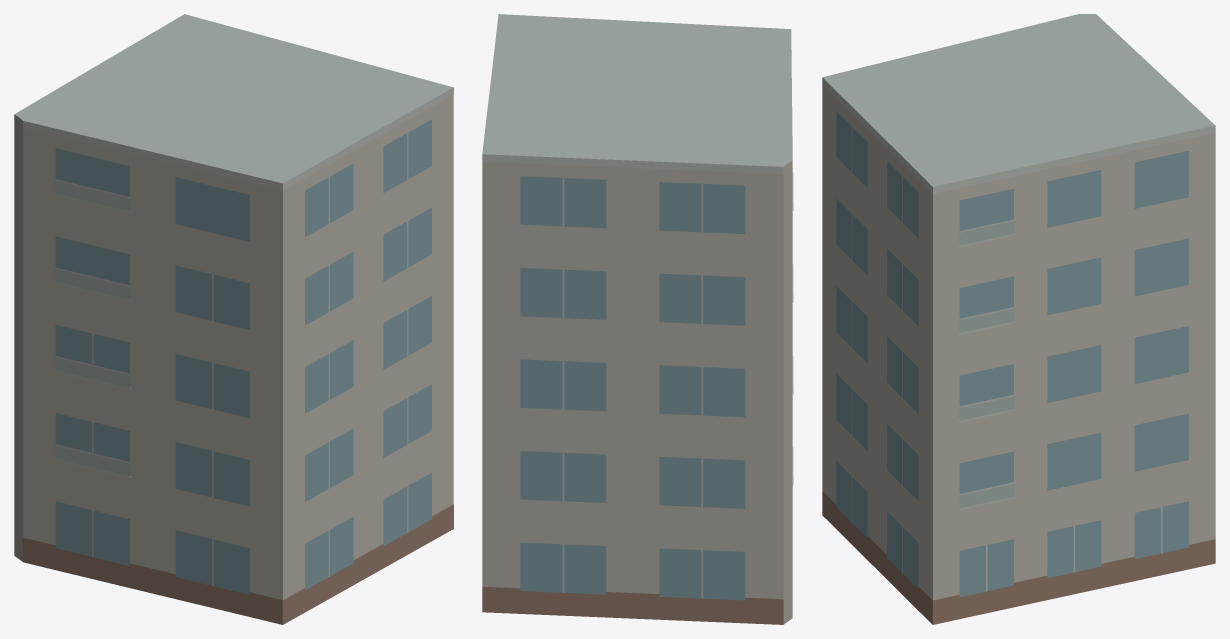
Rendered from survey-upis-32863893.glb.
The picture shows the model from 3 angles, left to right: view 1: azimuth 30°, elevation 25°; view 2: azimuth 150°, elevation 25°; view 3: azimuth 270°, elevation 25°; orthographic projection. The views are drawn at different scales.
Visible parts, largest first — view 1: survey-upis-32863893.tmp; view 2: survey-upis-32863893.tmp; view 3: survey-upis-32863893.tmp.
Part boxes in pixels (<box>): survey-upis-32863893.tmp: <box>14,14,453,624</box>; survey-upis-32863893.tmp: <box>482,14,793,624</box>; survey-upis-32863893.tmp: <box>822,14,1215,624</box>.
Size of the model in its own units: 12.67 by 14.96 by 12.18.
